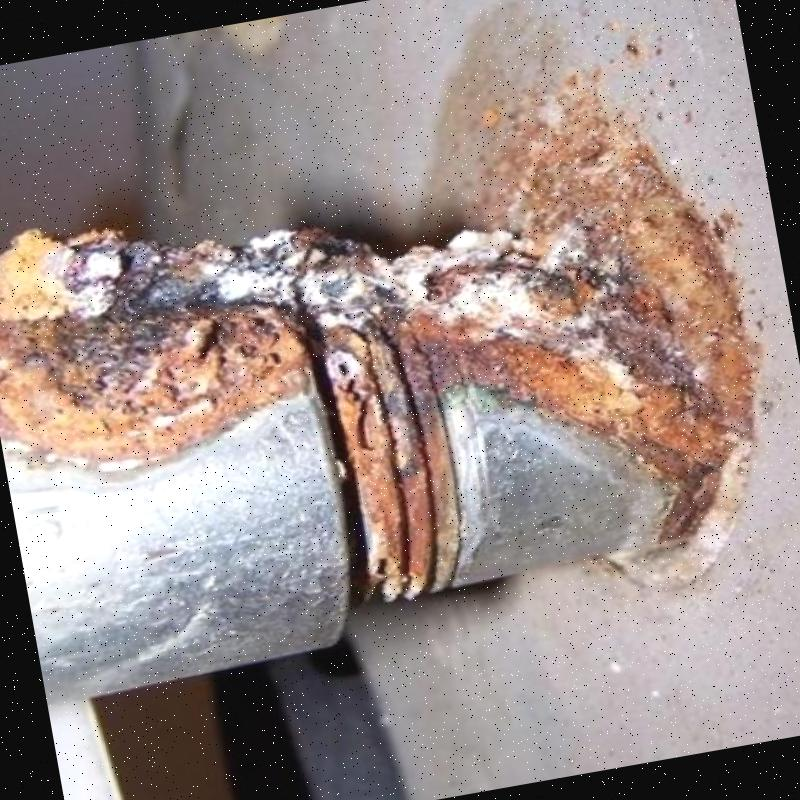corrosion: (0, 122, 665, 474)
